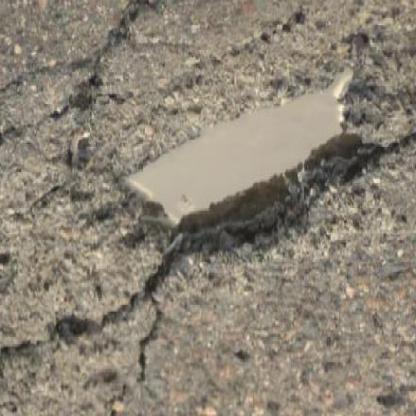pothole: (108, 61, 398, 269)
